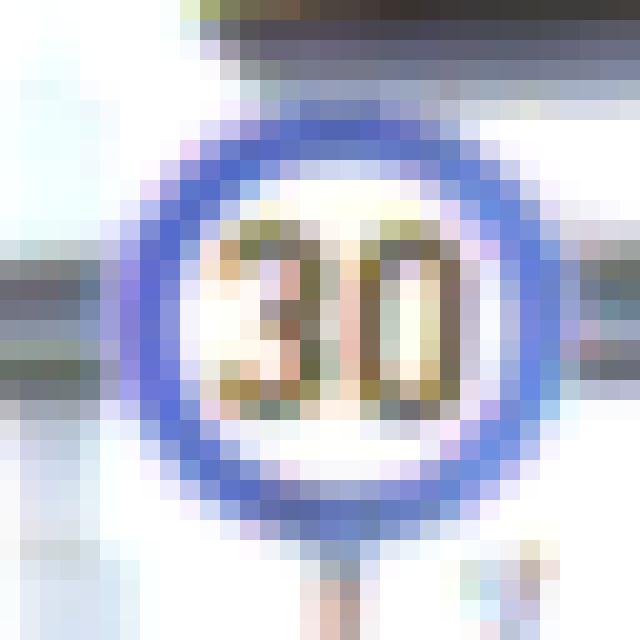SPEED LIMIT 30: (136, 154, 586, 552)
